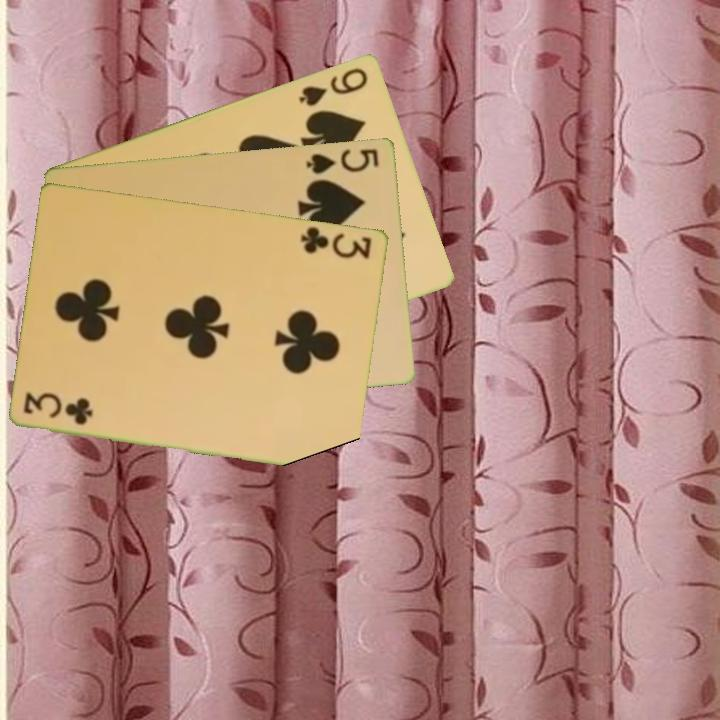3c: (297, 222, 375, 262), (20, 390, 96, 428)
5s: (303, 145, 382, 176)
9s: (295, 63, 371, 109)
